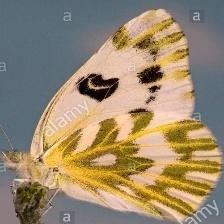butterfly: (4, 9, 222, 222)
